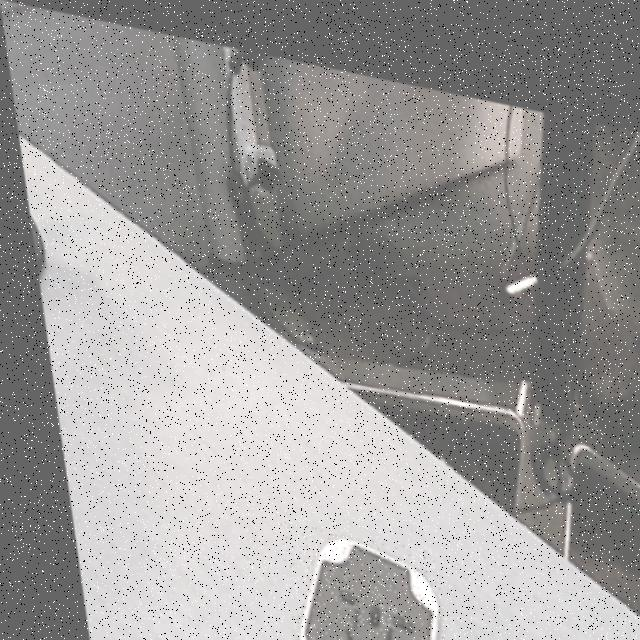adapter: (263, 511, 440, 640)
